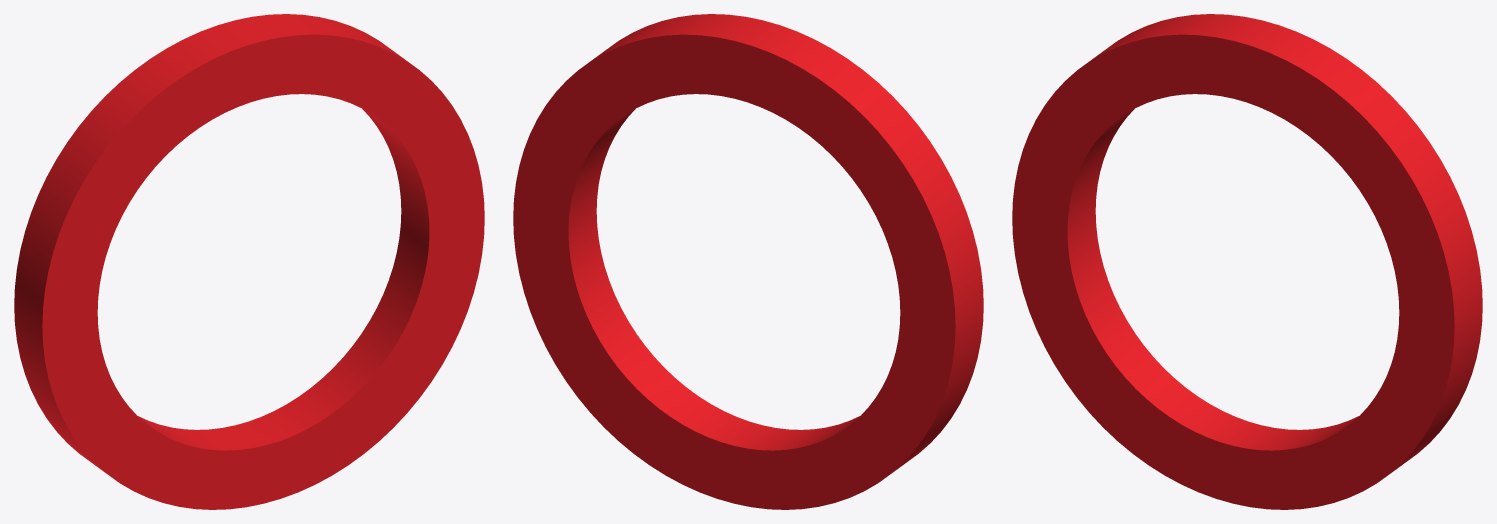
File: smallComponentsOutline.glb
3 renders of one model, left to right at view 1: azimuth 30°, elevation 25°; view 2: azimuth 150°, elevation 25°; view 3: azimuth 330°, elevation 25°, orthographic.
Visible parts, largest first — view 1: mesh_id27; view 2: mesh_id27; view 3: mesh_id27.
Boxes of the visible parts, x1=… form: mesh_id27: x1=14, y1=14, x2=484, y2=509; mesh_id27: x1=513, y1=14, x2=983, y2=509; mesh_id27: x1=1012, y1=14, x2=1482, y2=509.
Bounding box in the file's own units: 0.3629 × 0.3629 × 0.0401.
Materials: 1 (1 with a texture image).
